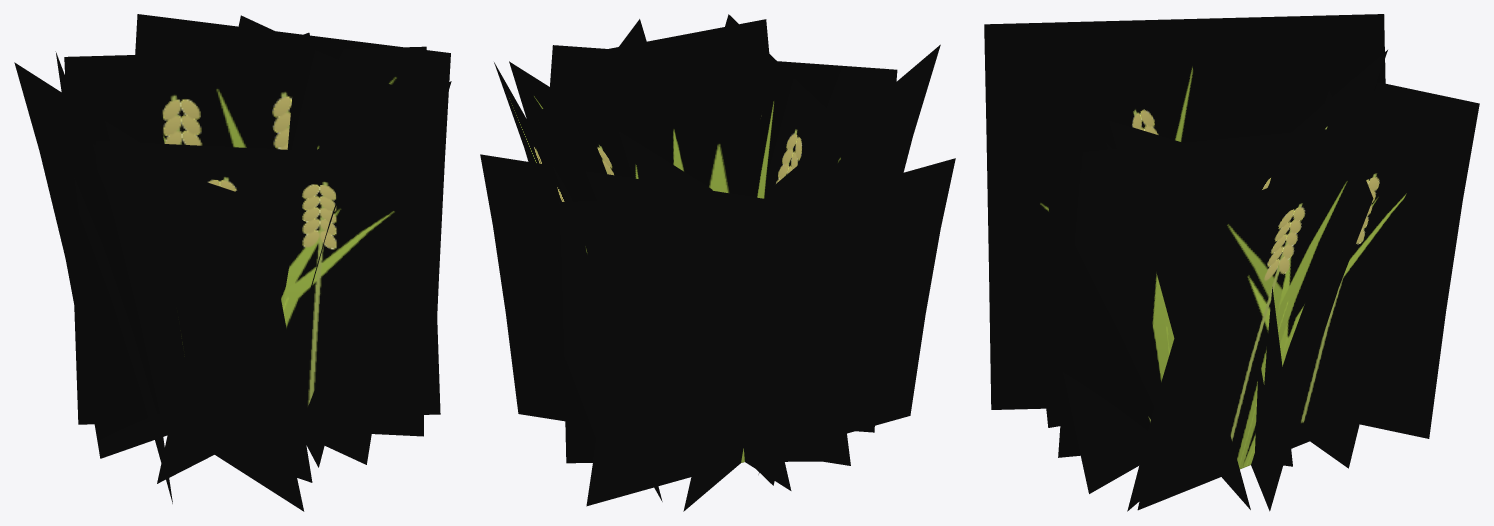
Rendered from Furn_Grass_Meadow_B.fbx.
3 views of the same model, side by side, from view 1: azimuth 30°, elevation 25°; view 2: azimuth 150°, elevation 25°; view 3: azimuth 270°, elevation 25° (orthographic). The views are drawn at different scales.
Parts seen in each view (by area): view 1: Furn_Grass_Meadow_B; view 2: Furn_Grass_Meadow_B; view 3: Furn_Grass_Meadow_B.
Part boxes in pixels (<box>): Furn_Grass_Meadow_B: <box>14,14,451,511</box>; Furn_Grass_Meadow_B: <box>480,14,955,511</box>; Furn_Grass_Meadow_B: <box>984,14,1479,511</box>.
Bounding box in the file's own units: 0.5 × 0.39 × 0.5.
Materials: 1 (1 with a texture image).
